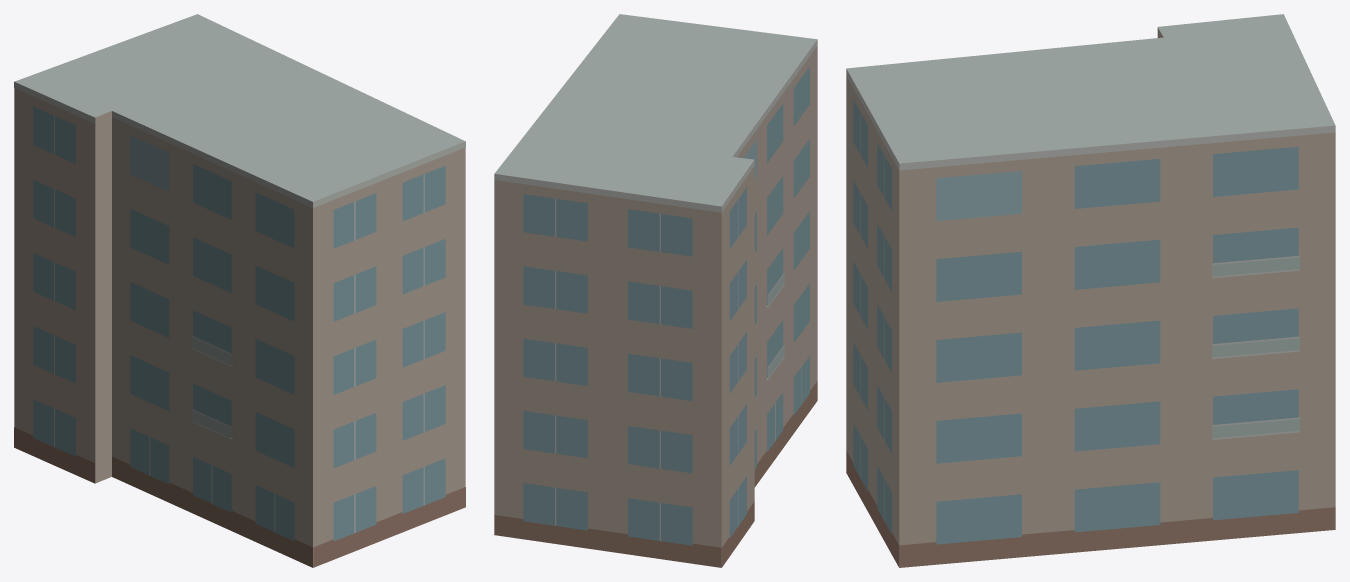
The model's file is survey-upis-32738493.glb.
3 renders of one model, left to right at view 1: azimuth 30°, elevation 25°; view 2: azimuth 150°, elevation 25°; view 3: azimuth 270°, elevation 25°, orthographic. The views are drawn at different scales.
Visible parts, largest first — view 1: survey-upis-32738493.tmp; view 2: survey-upis-32738493.tmp; view 3: survey-upis-32738493.tmp.
Part boxes in pixels (x1,y1,x2,y2): survey-upis-32738493.tmp: [14, 14, 465, 567]; survey-upis-32738493.tmp: [494, 14, 817, 567]; survey-upis-32738493.tmp: [846, 14, 1335, 567].
Bounding box in the file's own units: 11.44 × 14.4 × 15.81.
